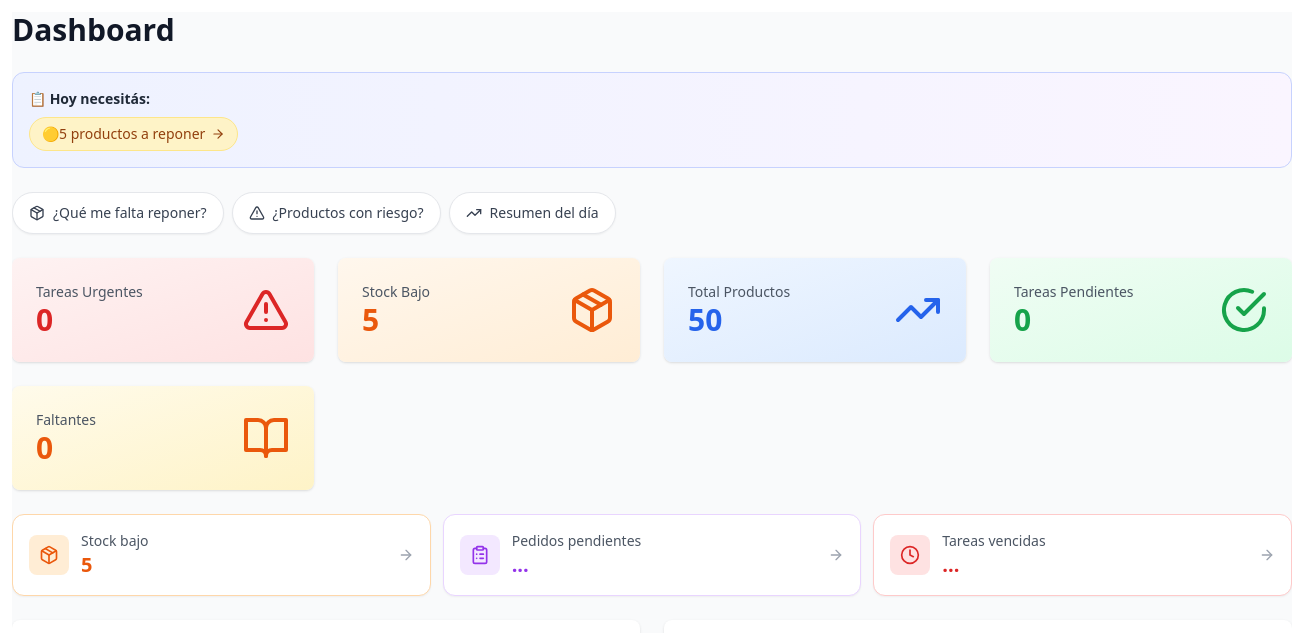
Dashboard › V2-08: clicking active chip toggles it off
What coordinates should you click on to do the following:
click the button "¿Qué me falta reponer?"
I would click on:
 (118, 213)
Its box is [12,192,224,234].
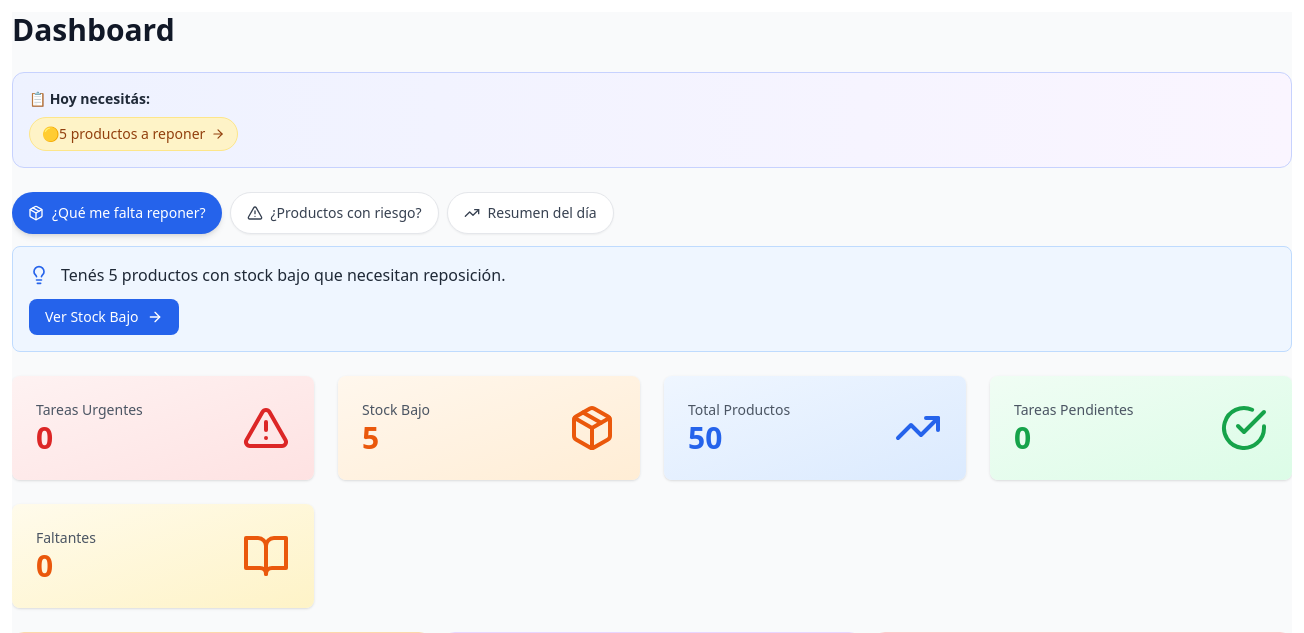
Expected: the text "Tenés 5 productos con stock bajo que necesitan reposición." is shown, [61,263,506,287]
What coordinates should you click on to do the following:
click the button "¿Qué me falta reponer?"
I would click on:
 (117, 213)
Its box is [12,192,222,234].
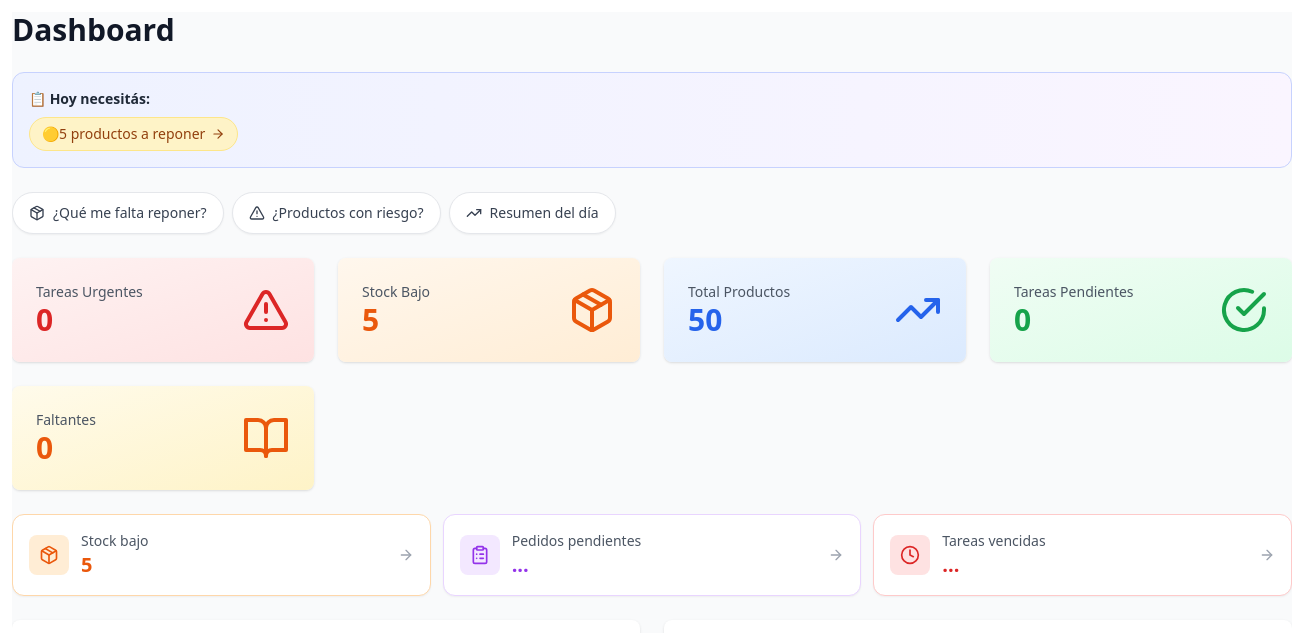
Expected: the text "5 productos con stock bajo" is gone
